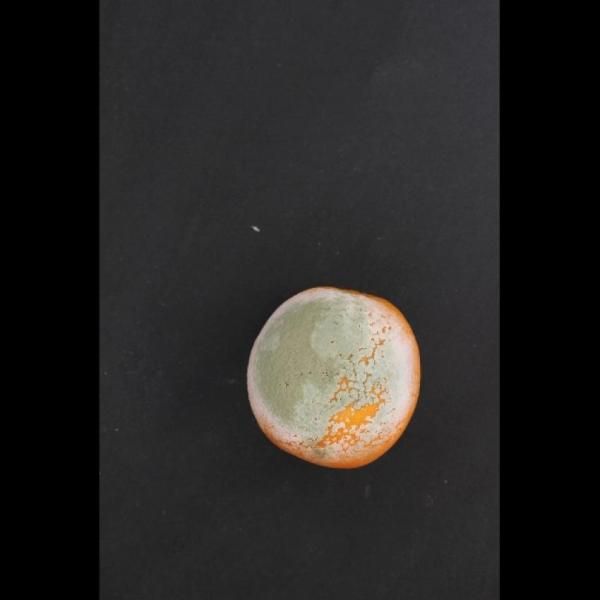Moho verde: (238, 269, 440, 485)
